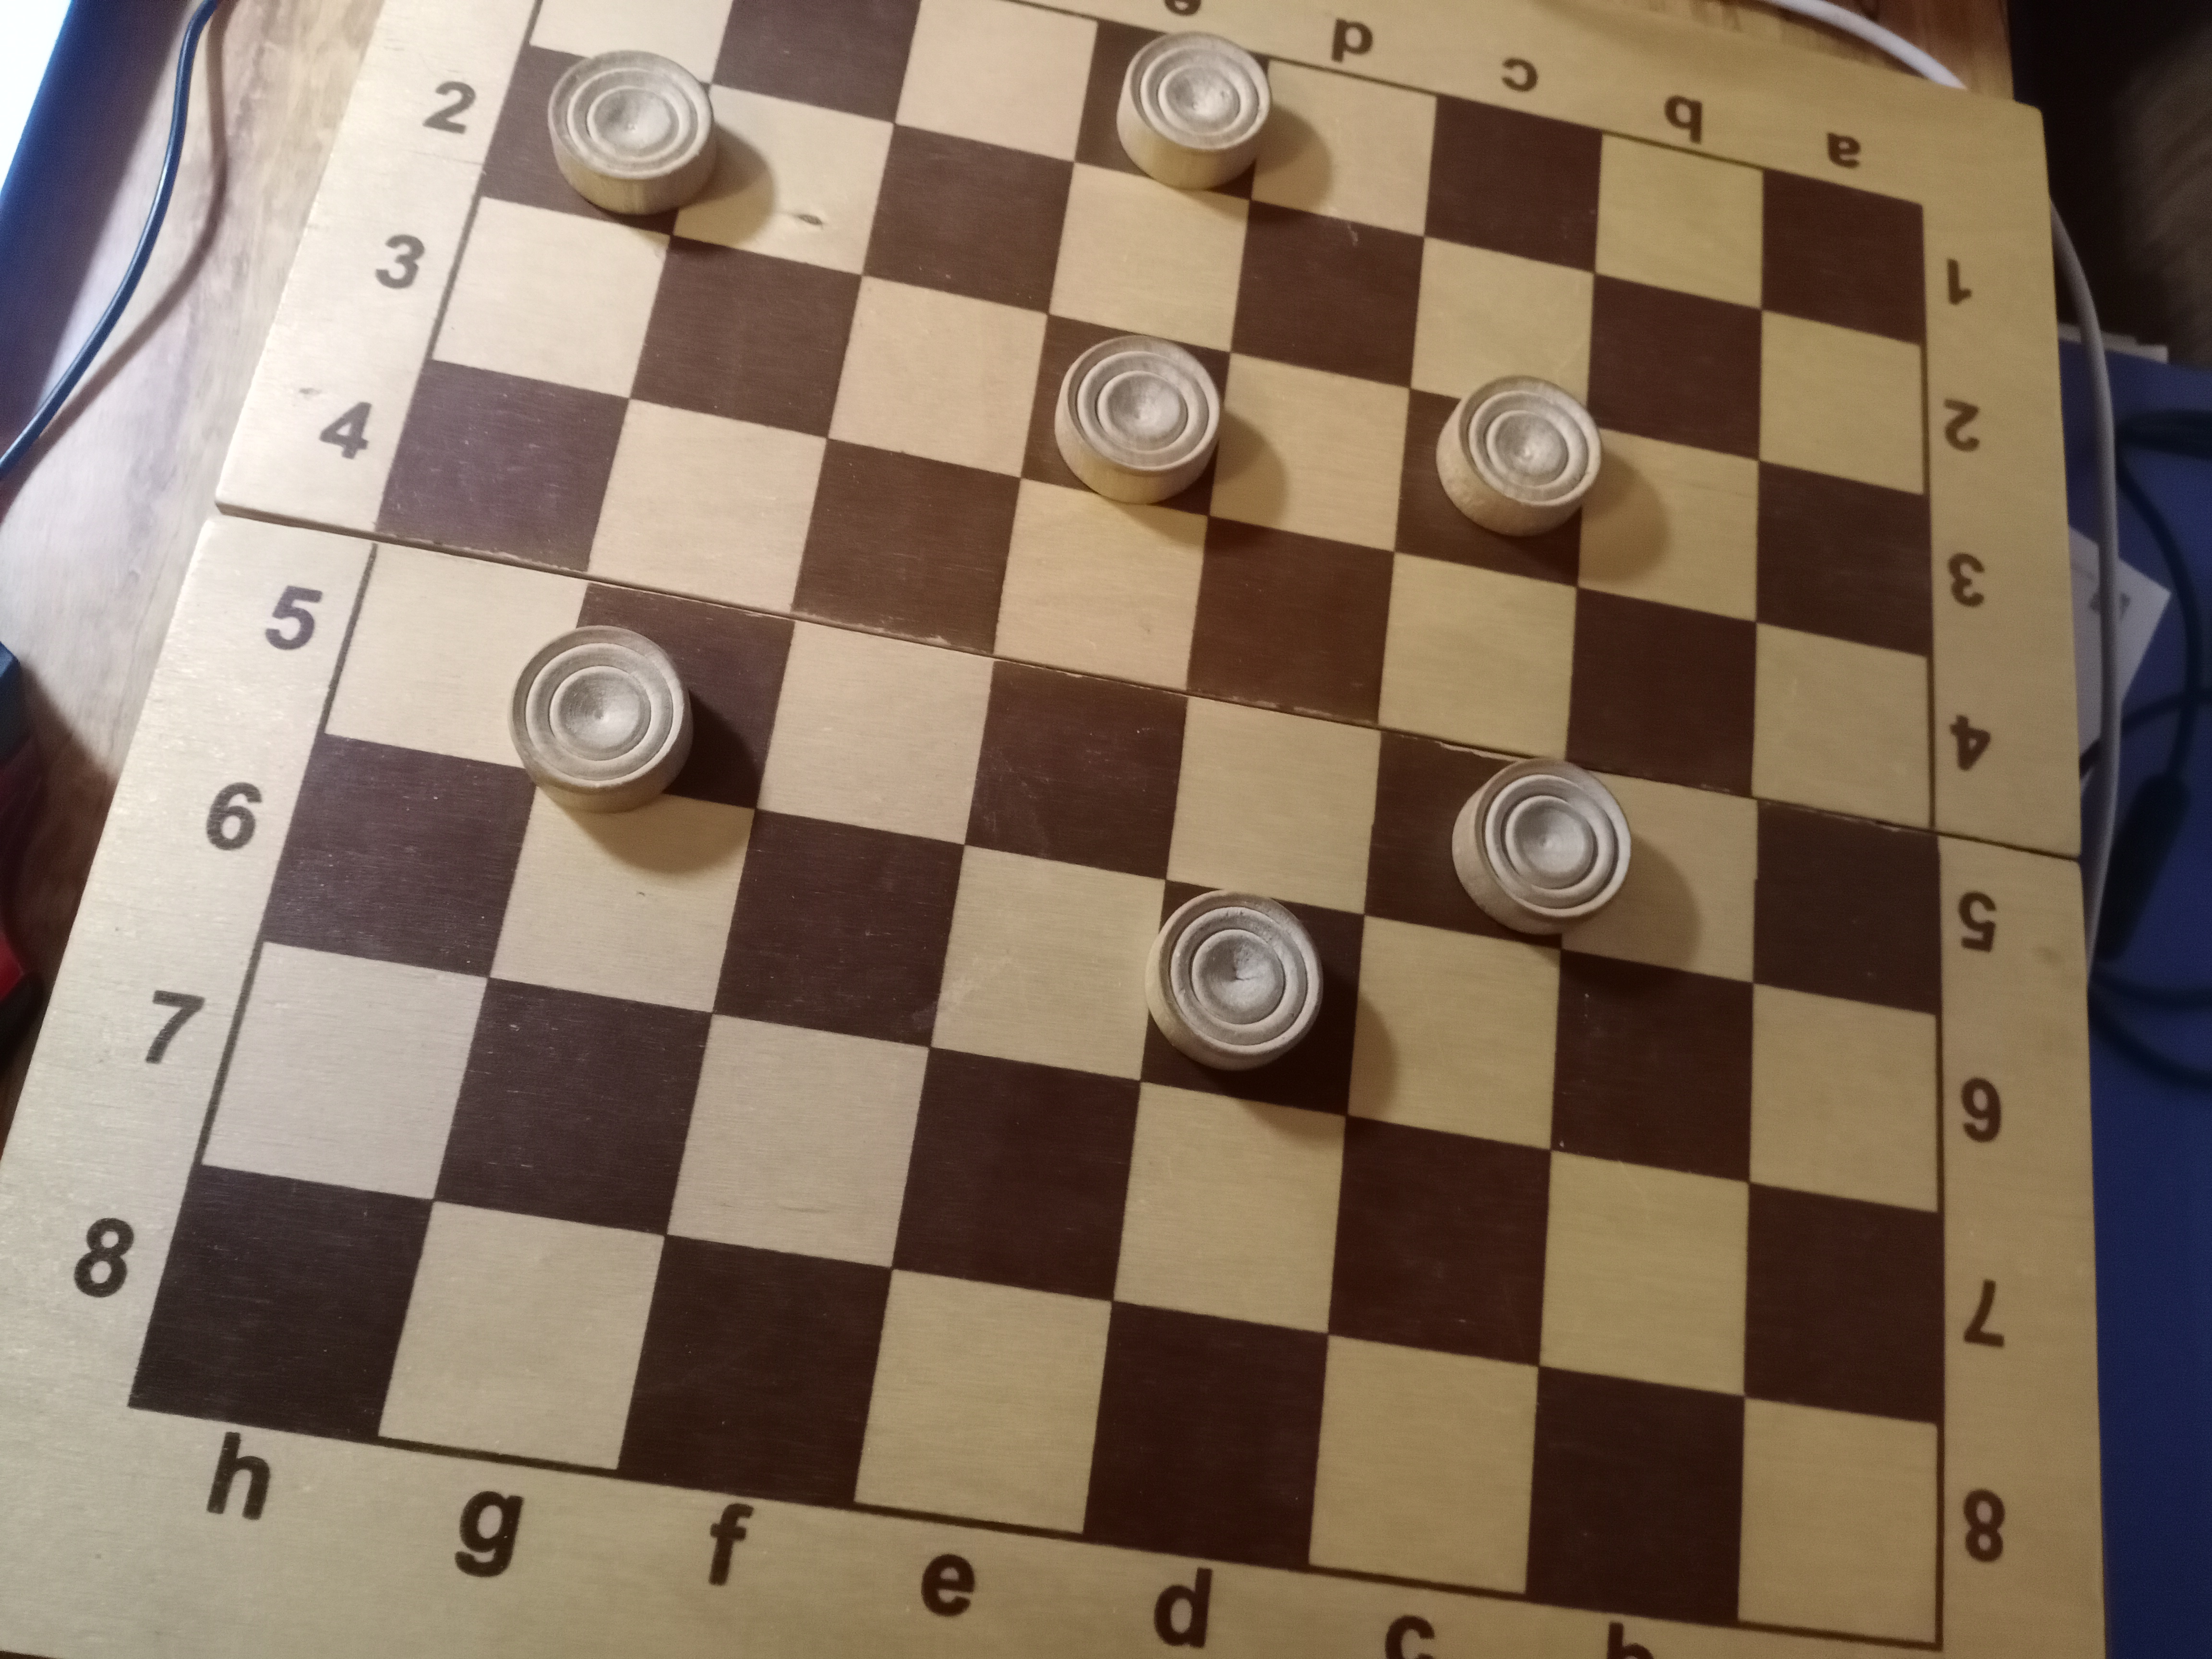White_Draught: (510, 582, 796, 812), (1367, 728, 1632, 950), (1141, 880, 1366, 1115), (1395, 375, 1604, 589), (1019, 314, 1231, 518), (484, 51, 716, 232), (1075, 21, 1273, 200)
